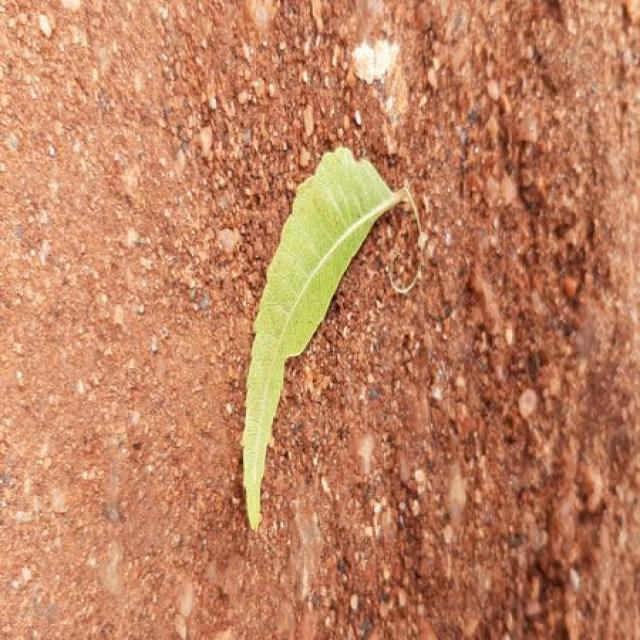neem: (242, 148, 417, 528)
